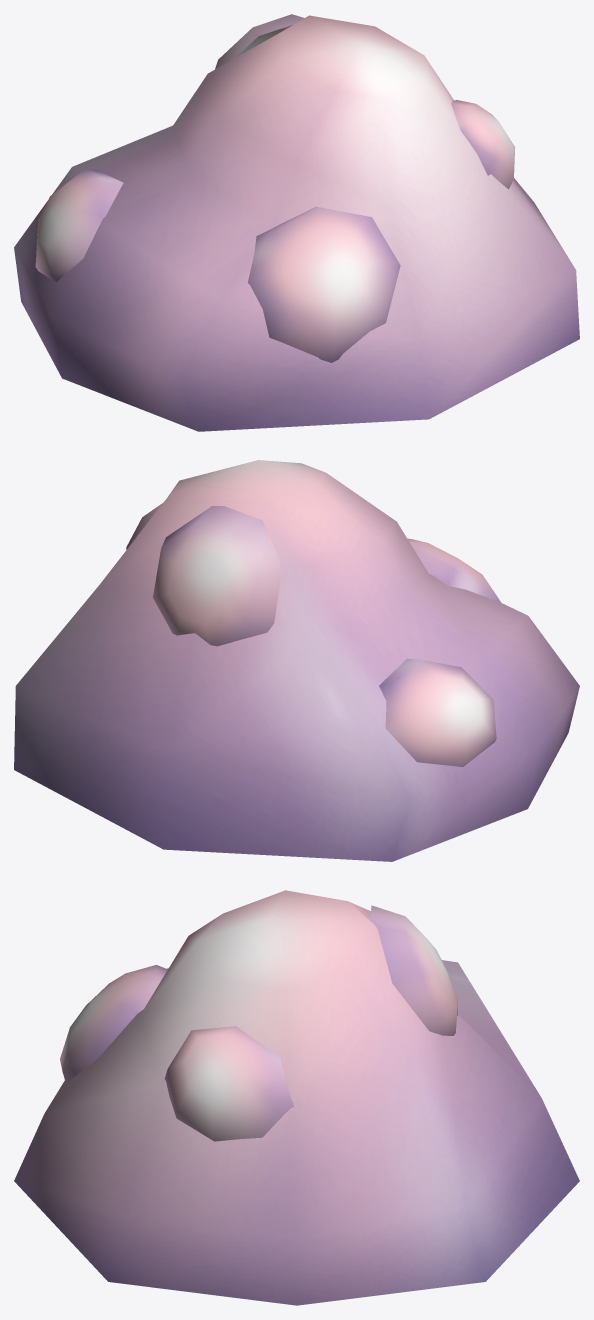
File: t2_m_ara_dpl_rockPink.fbx
3 views of the same model, one above another, from view 1: azimuth 30°, elevation 25°; view 2: azimuth 150°, elevation 25°; view 3: azimuth 270°, elevation 25° (orthographic). The views are drawn at different scales.
Parts seen in each view (by area): view 1: t2_m_ara_dpl_rockPink; view 2: t2_m_ara_dpl_rockPink; view 3: t2_m_ara_dpl_rockPink.
Boxes of the visible parts, <box> form: t2_m_ara_dpl_rockPink: <box>14,14,579,431</box>; t2_m_ara_dpl_rockPink: <box>14,460,579,861</box>; t2_m_ara_dpl_rockPink: <box>14,890,579,1305</box>.
Bounding box in the file's own units: 2.34 × 1.26 × 2.24.
1 material, 1 textured.
